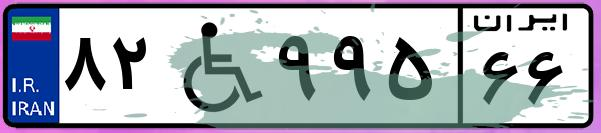2: (110, 28, 158, 98)
5: (385, 28, 445, 110)
6: (475, 38, 525, 113), (525, 38, 570, 115)
8: (57, 26, 110, 100)
9: (270, 28, 330, 110), (330, 28, 385, 110)
ژ (معلولین و جانبازان): (158, 12, 270, 120)
